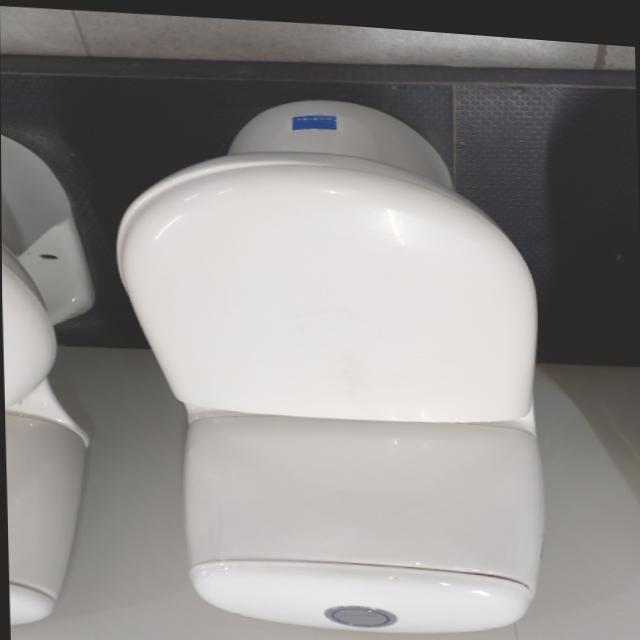toilet: (109, 78, 547, 640)
